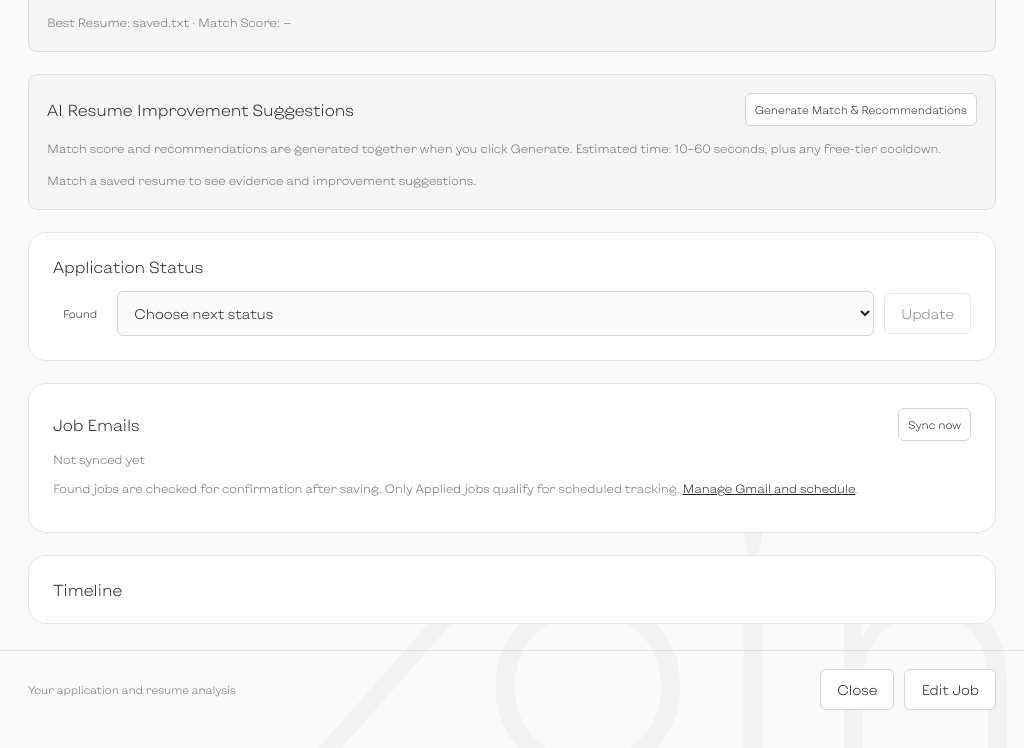
it: sync now polls confirmation and provides correction
(page scrolled)
Click the button "Sync now": click(935, 424) [898,408,971,440]
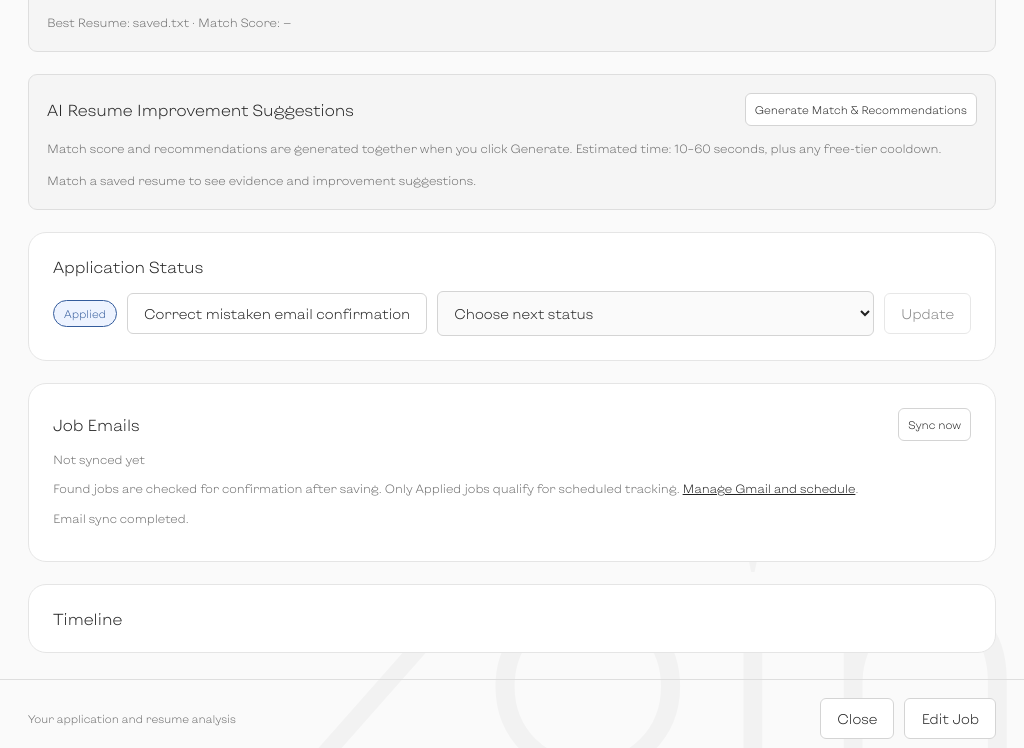
Result: the text "Email sync completed." is shown at [53,511,189,525]
Click the button "Correct mistaken email confirmation": click(277, 313) [127,292,427,334]
(page scrolled)
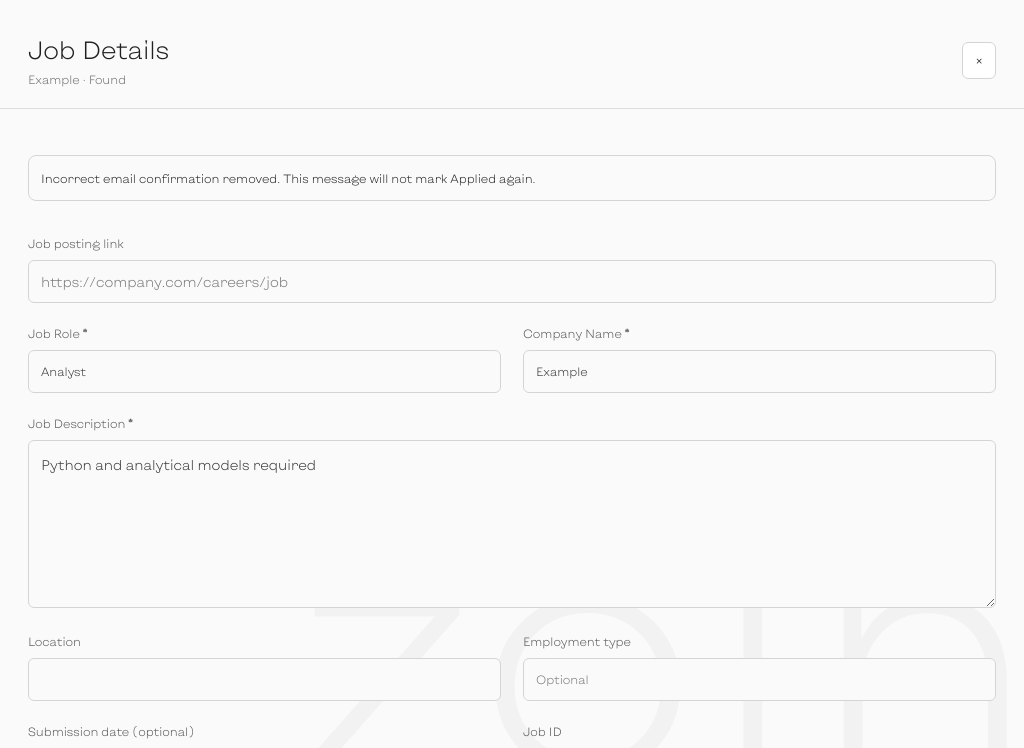
Result: the text "Incorrect email confirmation removed. This message will not mark Applied again." is shown at [28,155,996,201]
